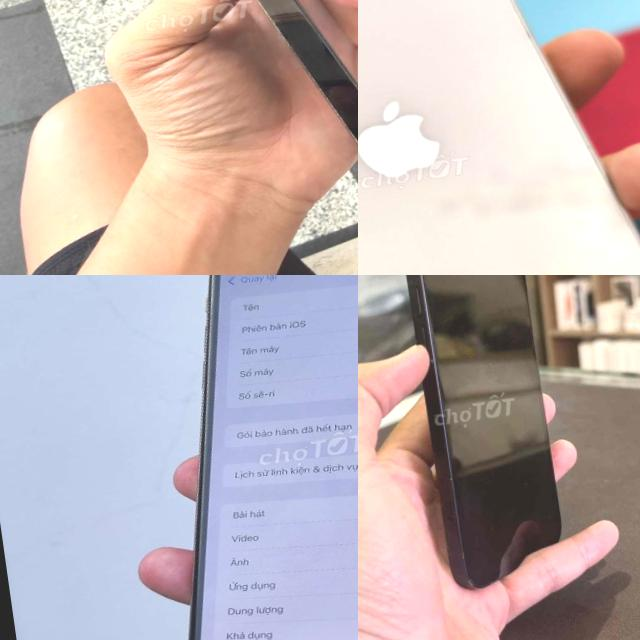gen_12_13: (358, 0, 640, 275), (384, 275, 574, 597)
gen_14: (107, 0, 358, 252)
gen_x_xs: (118, 275, 358, 640)
